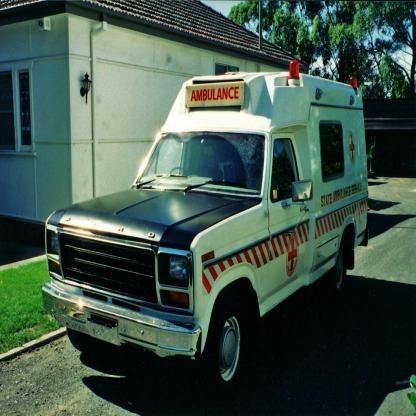Ambulance: (42, 61, 368, 395)
Truck: (36, 53, 385, 397)
